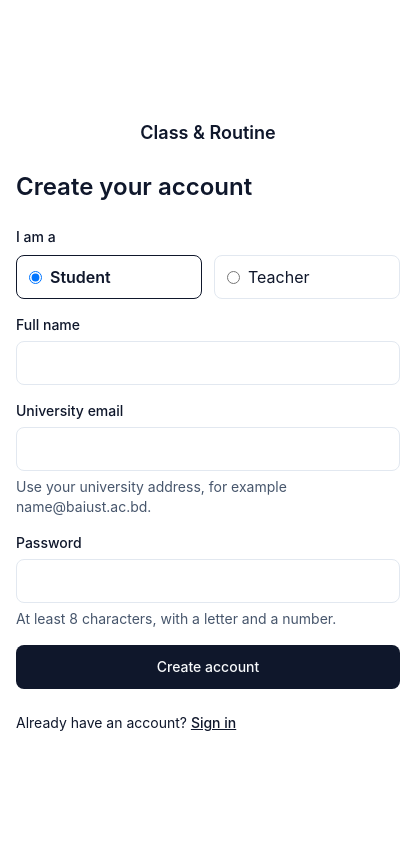
it: sign-up form › AUTH-04 teacher-only fields appear for a teacher and not for a student
expect the field labelled "Full name" is shown: met, box [16,341,400,385]
expect the field labelled "Short code" is not shown: met
Click the radio button labelled "Teacher" at (234, 277), box [227,270,240,284]
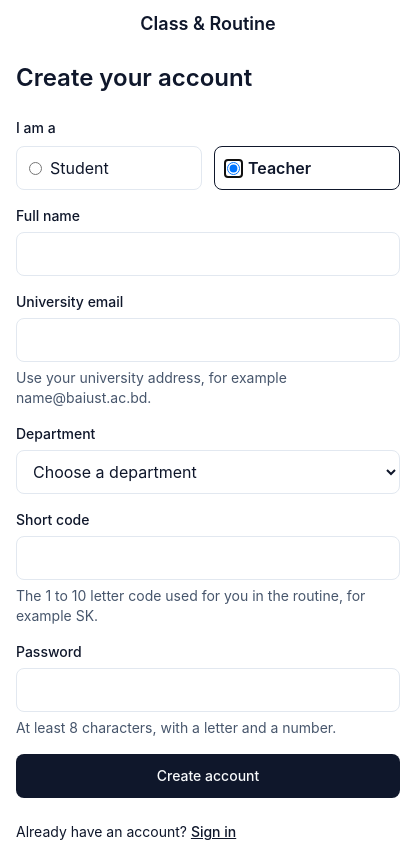
expect the field labelled "Short code" is shown: met, box [16,536,400,580]
